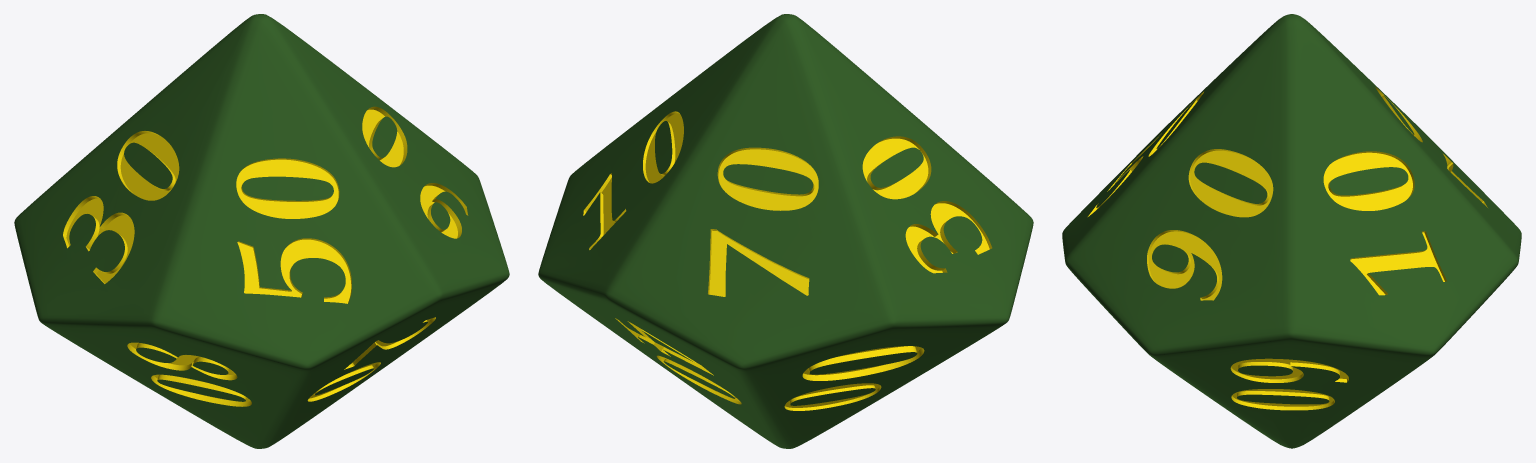
3 renders of one model, left to right at view 1: azimuth 30°, elevation 25°; view 2: azimuth 150°, elevation 25°; view 3: azimuth 270°, elevation 25°, orthographic.
Parts seen in each view (by area): view 1: D100; view 2: D100; view 3: D100.
Boxes of the visible parts, x1,y1,x2,y2 form: D100: [14, 14, 509, 448]; D100: [538, 14, 1033, 448]; D100: [1062, 14, 1521, 448].
Size of what is drawn, in the model's own units: 0.3649 by 0.3431 by 0.3327.
